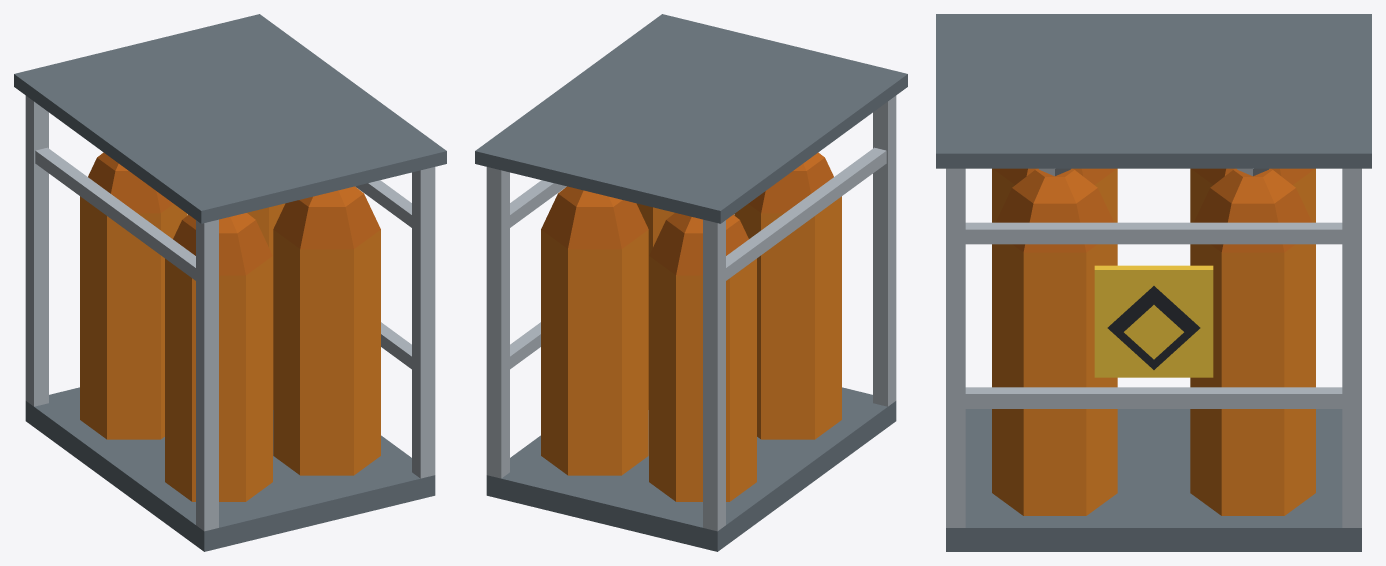
The model's file is gas_cylinder.glb.
The picture shows the model from 3 angles, left to right: view 1: azimuth 30°, elevation 25°; view 2: azimuth 150°, elevation 25°; view 3: azimuth 270°, elevation 25°; orthographic projection. The views are drawn at different scales.
Visible parts, largest first — view 1: gas_cylinder; view 2: gas_cylinder; view 3: gas_cylinder.
Part boxes in pixels (x1,y1,x2,y2): gas_cylinder: [14, 14, 446, 551]; gas_cylinder: [475, 14, 907, 551]; gas_cylinder: [936, 14, 1371, 551].
Size of the model in its own units: 0.1025 by 0.1345 by 0.132.
